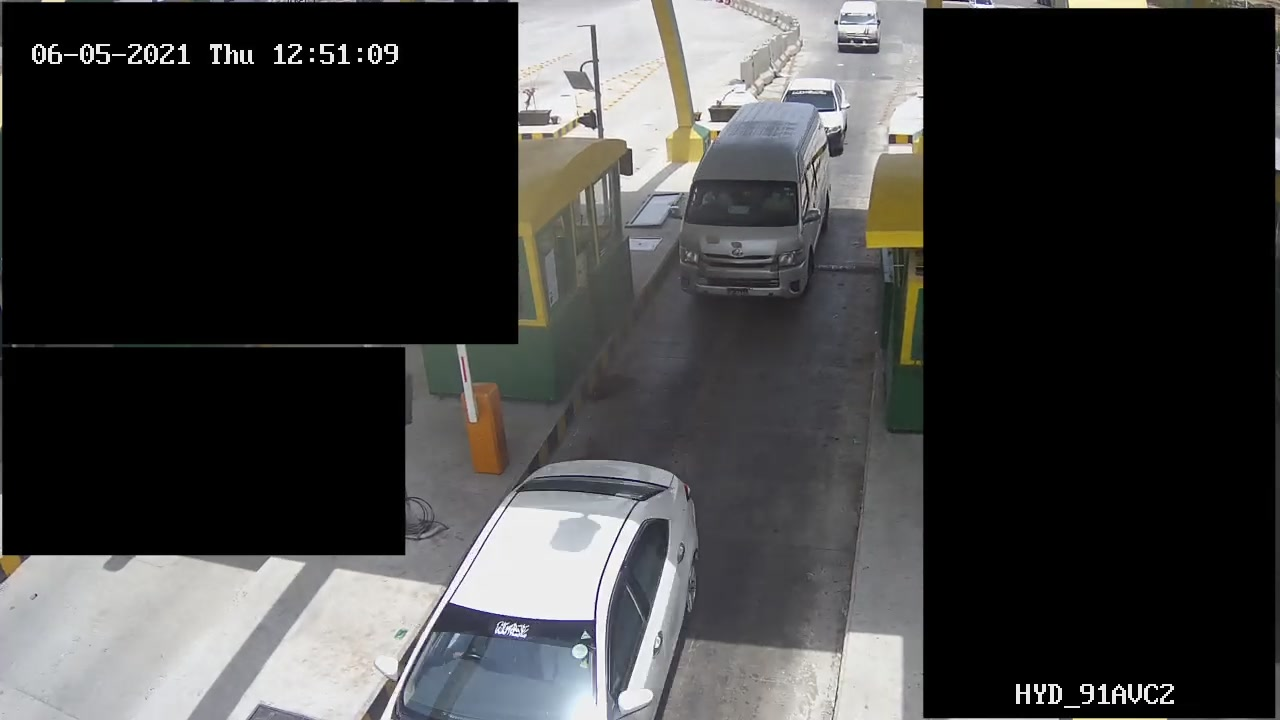F2: (674, 92, 834, 312)
